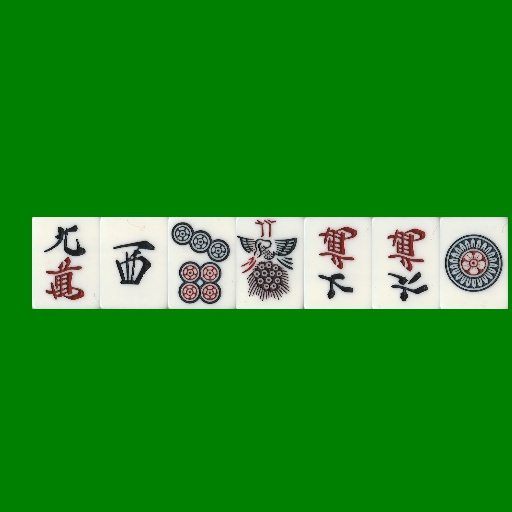1p: (440, 217, 508, 309)
1s: (236, 217, 304, 309)
6m: (372, 217, 440, 309)
7m: (304, 217, 372, 309)
7p: (168, 217, 236, 309)
9m: (32, 217, 100, 309)
west: (100, 217, 168, 309)
